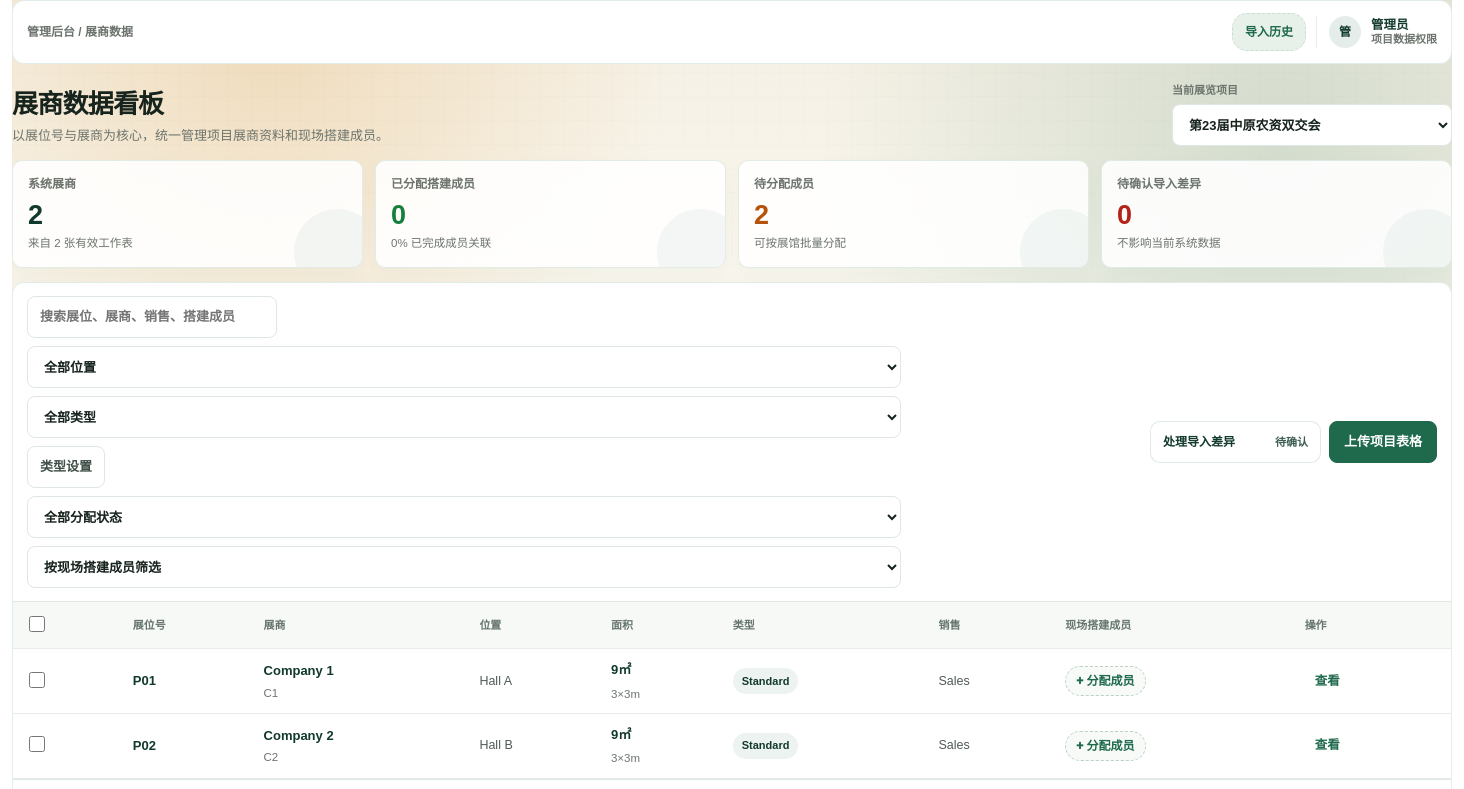
it: ExhibitorDashboard table selection lifecycle › clears table selection when the incoming exhibitor dataset changes
The image size is (1464, 789).
Click the checkbox named "选择Company 1" at (37, 680), box [29, 672, 45, 688]
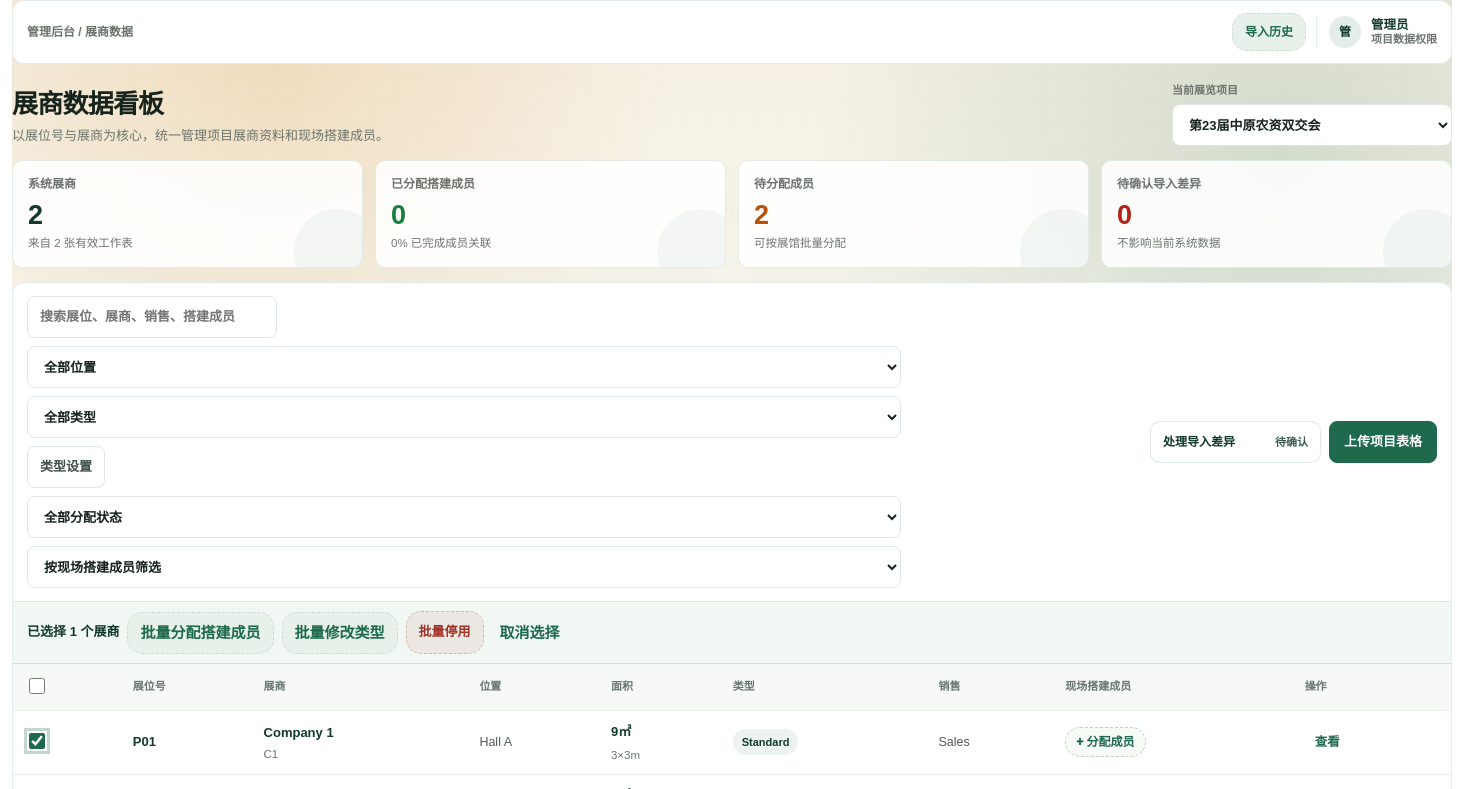
Result: the text "已选择 1 个展商" is shown at [27, 622, 120, 642]
